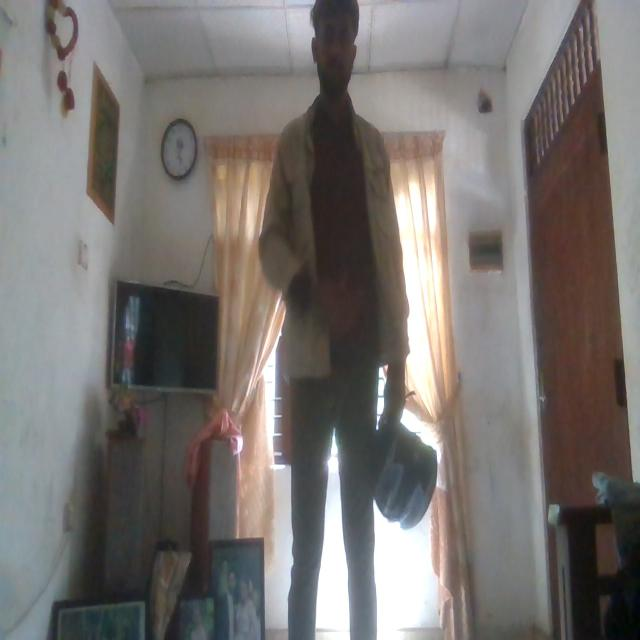Jacket_Wearer: (263, 89, 412, 383)
Person: (261, 0, 413, 640)
